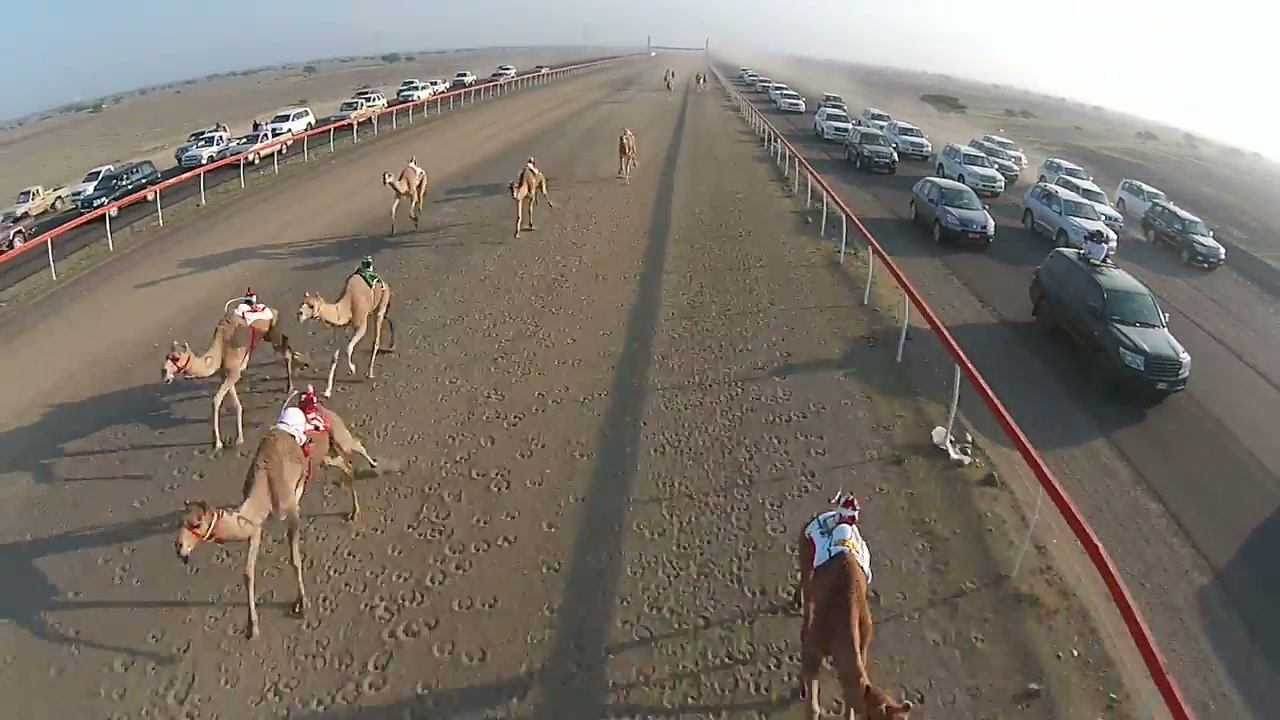animal_footprint: (226, 277, 593, 718), (655, 302, 813, 697), (97, 589, 246, 718), (58, 533, 128, 595)
